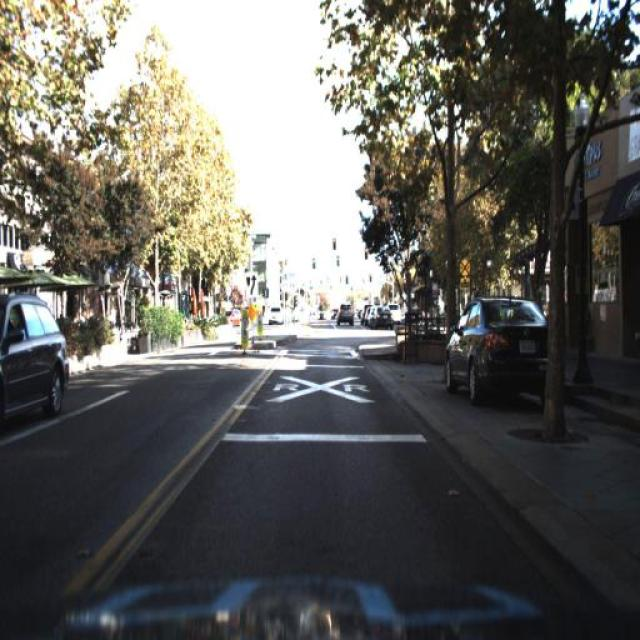car: (438, 293, 558, 396), (0, 292, 70, 432), (336, 302, 355, 327)
